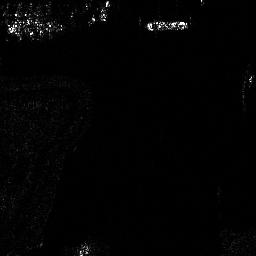ship: (147, 20, 188, 31)
